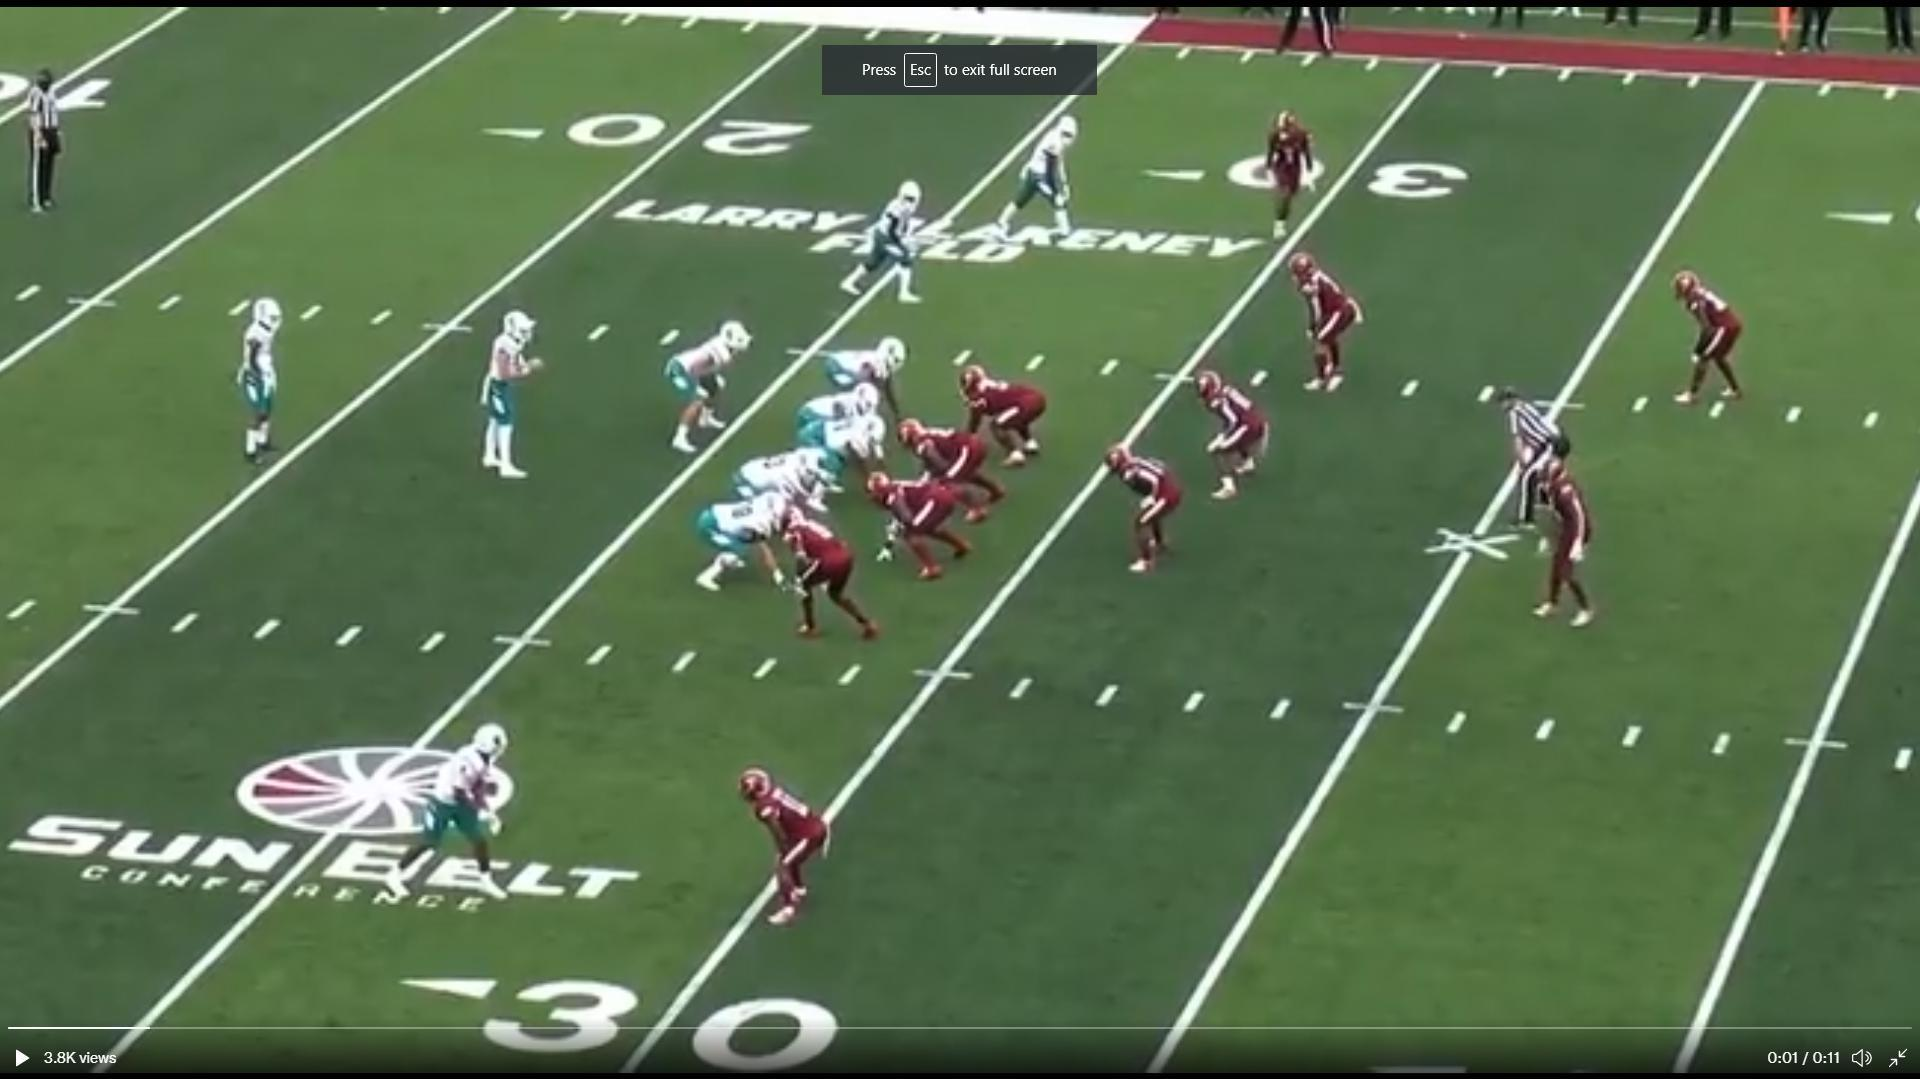player: (388, 720, 517, 908), (742, 764, 837, 938), (780, 504, 888, 653), (993, 111, 1089, 252), (1528, 450, 1600, 636), (1668, 262, 1753, 416), (661, 320, 752, 462), (474, 305, 540, 490), (839, 176, 930, 310), (867, 469, 974, 582), (695, 488, 803, 598), (1108, 436, 1190, 580), (1194, 365, 1275, 509), (1286, 251, 1361, 401), (231, 288, 290, 474), (895, 421, 999, 523), (955, 363, 1050, 471), (1262, 106, 1324, 245), (819, 334, 916, 422), (796, 413, 895, 499), (741, 443, 840, 517), (793, 379, 885, 435)
ref: (1495, 385, 1565, 533), (14, 69, 74, 221)
